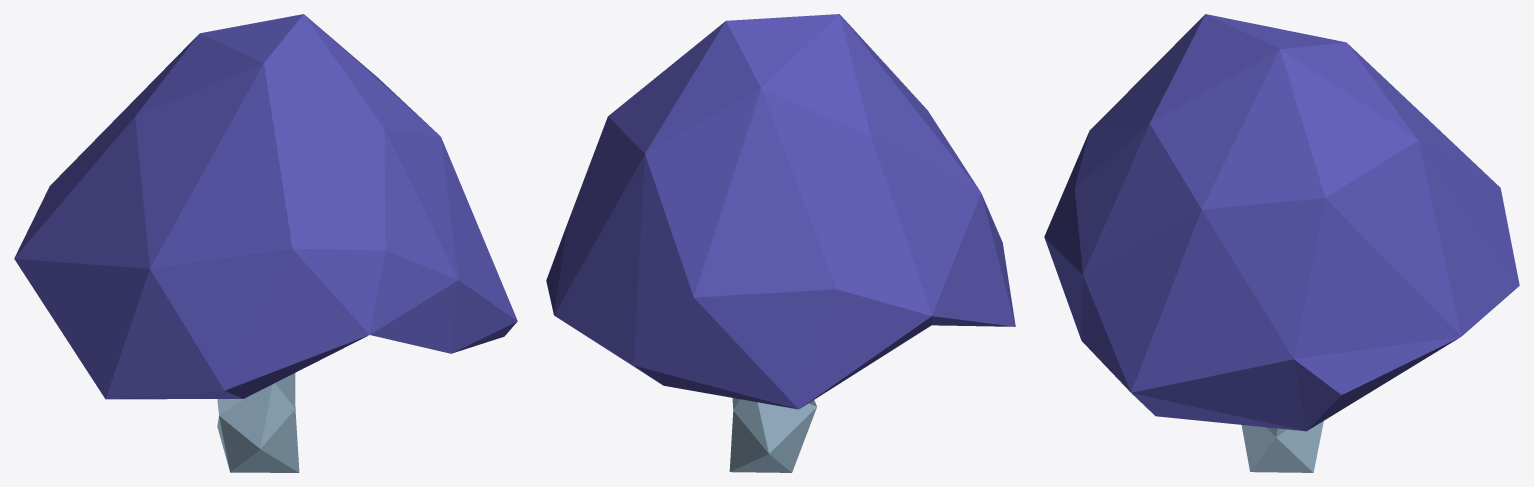
Rendered from mushroomlp3.fbx.
3 views of the same model, side by side, from view 1: azimuth 30°, elevation 25°; view 2: azimuth 150°, elevation 25°; view 3: azimuth 270°, elevation 25° (orthographic). The views are drawn at different scales.
Parts seen in each view (by area): view 1: mushroom; view 2: mushroom; view 3: mushroom.
Part boxes in pixels (<box>): mushroom: <box>14,14,517,472</box>; mushroom: <box>546,14,1015,472</box>; mushroom: <box>1044,14,1519,472</box>.
Size of the model in its own units: 1909 by 1996 by 1984.
